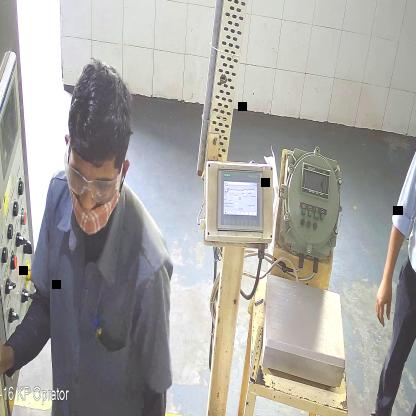goggles: (64, 156, 123, 204)
